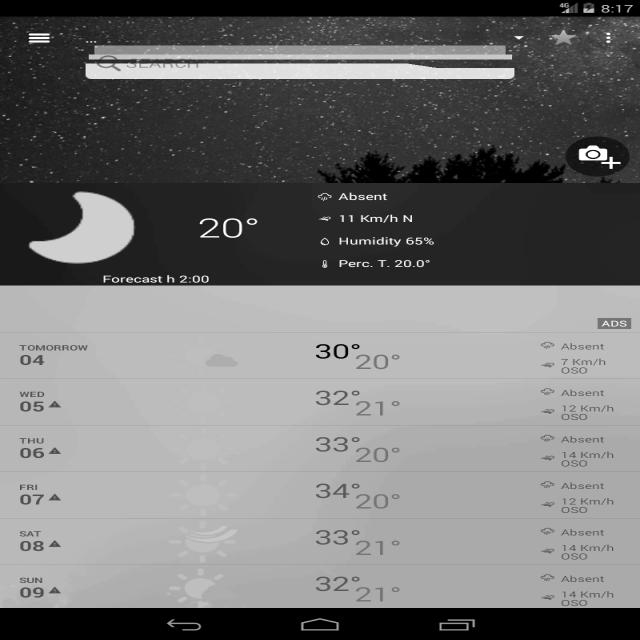ImageButton: (556, 135, 622, 171), (13, 21, 60, 51), (589, 20, 620, 46), (545, 24, 576, 48)
ImageView: (27, 181, 131, 267), (150, 565, 274, 603), (162, 524, 270, 560), (152, 333, 245, 374), (164, 478, 255, 518), (161, 383, 265, 417), (148, 431, 238, 467)
TextView: (520, 330, 630, 608), (303, 331, 407, 605), (6, 336, 88, 604), (310, 188, 452, 274), (175, 210, 268, 248)
